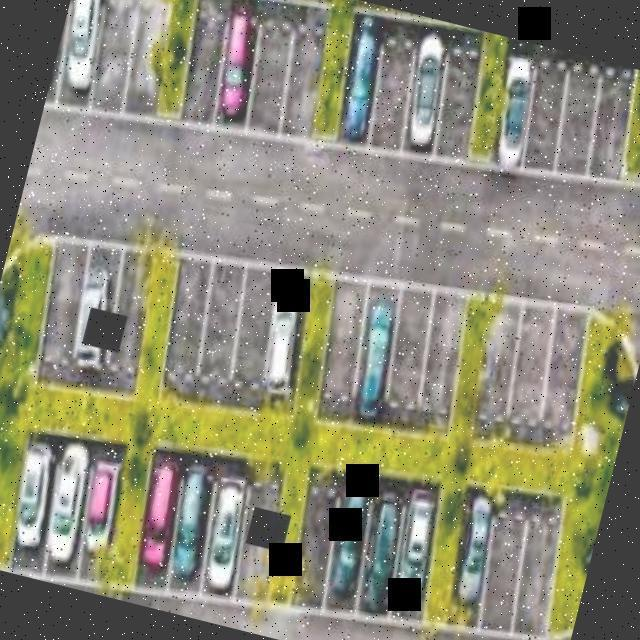car: (0, 428, 69, 566), (194, 469, 256, 595), (66, 254, 130, 370), (50, 0, 119, 107), (355, 481, 416, 602), (257, 291, 322, 404), (39, 433, 100, 552), (328, 22, 390, 132), (76, 458, 138, 562), (326, 478, 380, 590), (388, 498, 444, 604), (210, 15, 266, 116), (487, 66, 546, 160), (397, 47, 451, 149), (354, 300, 404, 403), (134, 463, 183, 566), (166, 482, 214, 566)
free: (530, 323, 599, 434), (228, 268, 282, 369), (292, 478, 342, 584), (100, 275, 154, 373), (118, 0, 178, 88), (36, 264, 92, 358), (367, 58, 420, 148), (237, 478, 286, 574), (88, 0, 139, 90), (387, 308, 435, 400), (469, 323, 517, 412), (318, 304, 364, 396), (508, 330, 556, 412), (168, 279, 214, 364), (198, 286, 246, 367), (512, 528, 556, 616), (419, 314, 466, 396), (183, 13, 231, 92), (249, 36, 297, 114), (525, 74, 567, 153), (287, 40, 330, 113), (585, 92, 629, 162), (486, 523, 526, 597), (438, 65, 479, 128), (560, 91, 600, 152)
